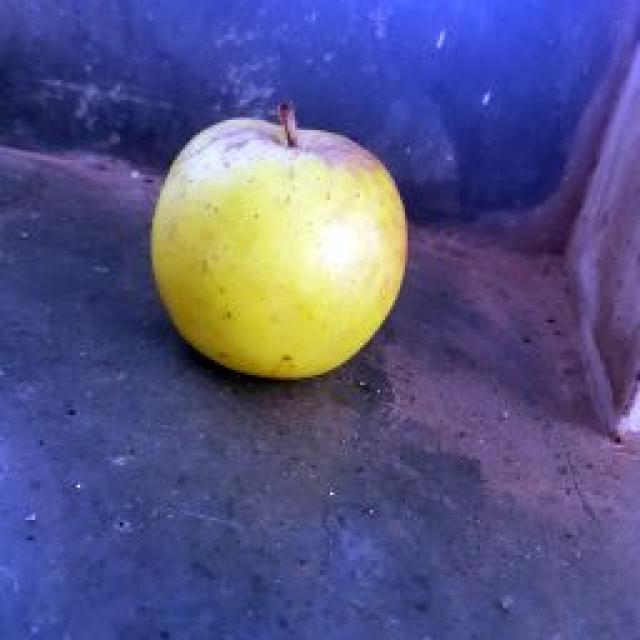Good_Apple: (151, 104, 408, 378)
